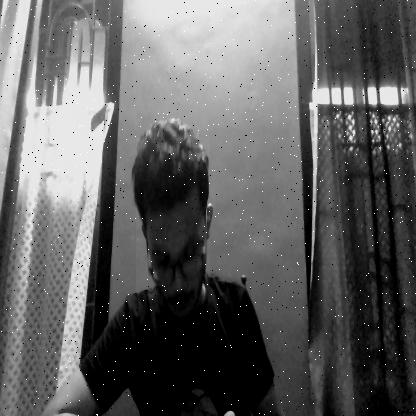Normal: (136, 138, 210, 324)
